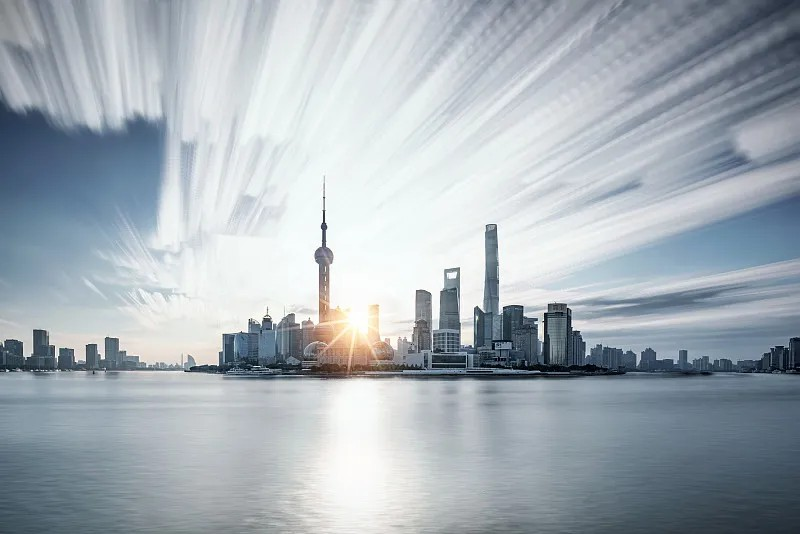Oriental: (315, 177, 334, 321)
